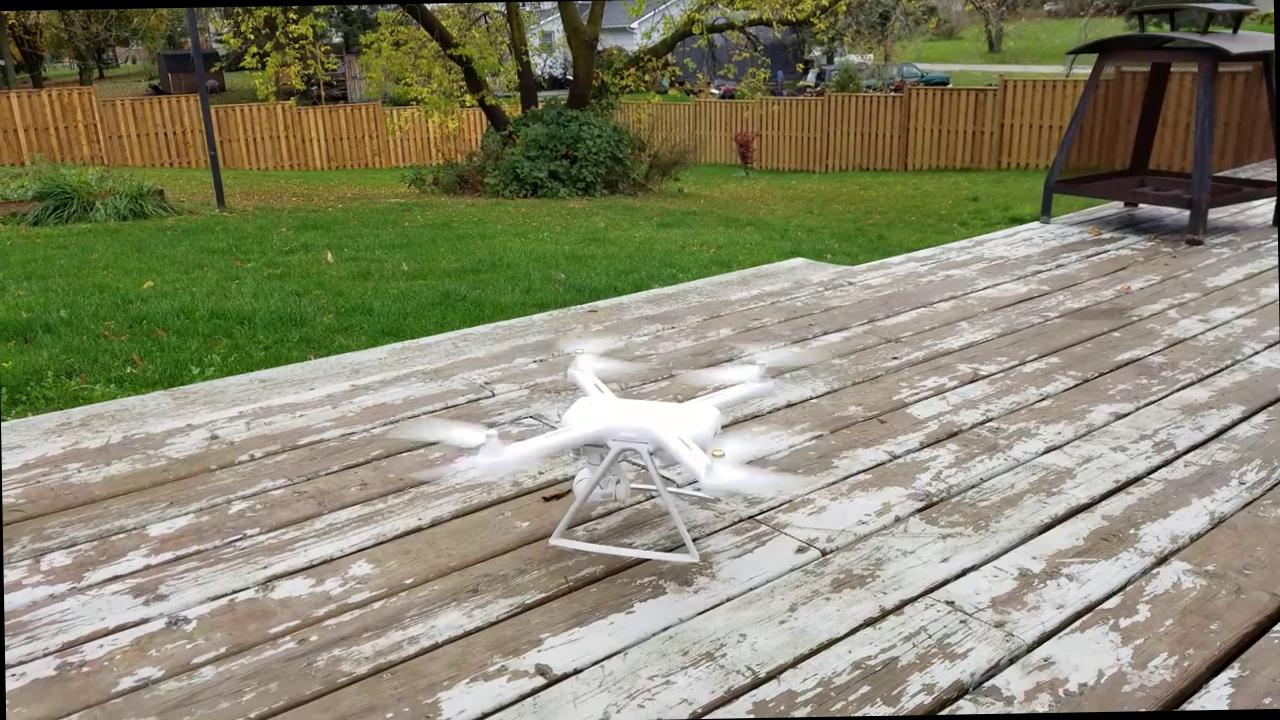drone: (440, 335, 834, 561)
